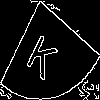K: (25, 25, 63, 82)
